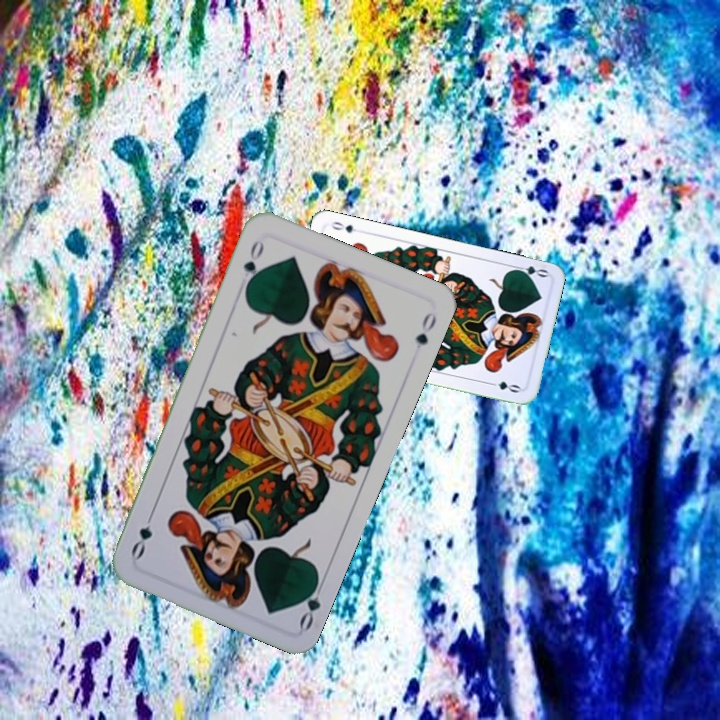GO: (294, 573, 328, 632), (239, 236, 267, 292), (509, 261, 550, 281)
